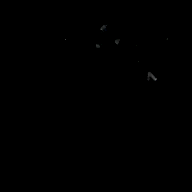v: (92, 22, 120, 50)
